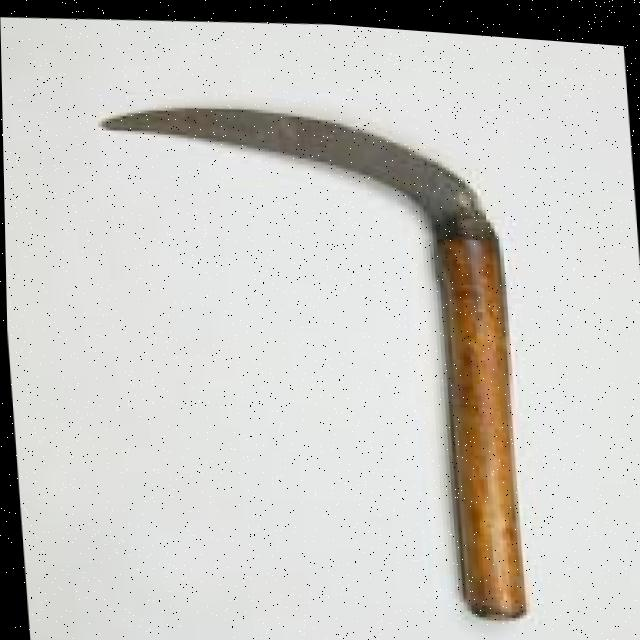sickle: (71, 24, 587, 640)
